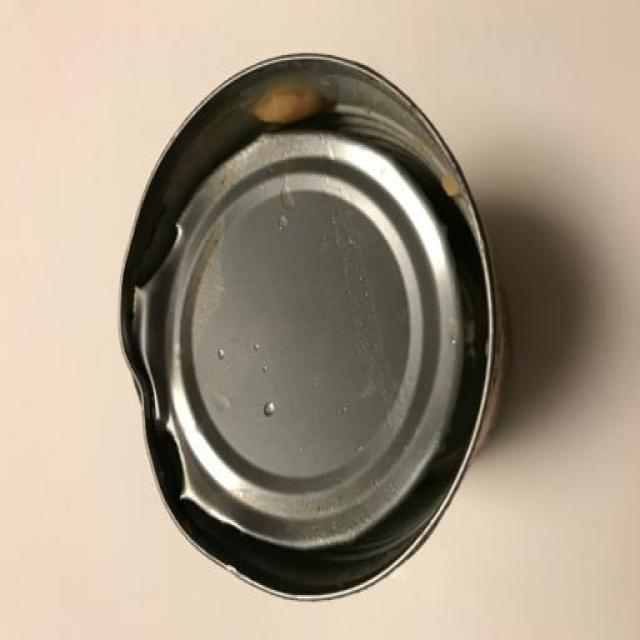metel: (96, 35, 518, 605)
